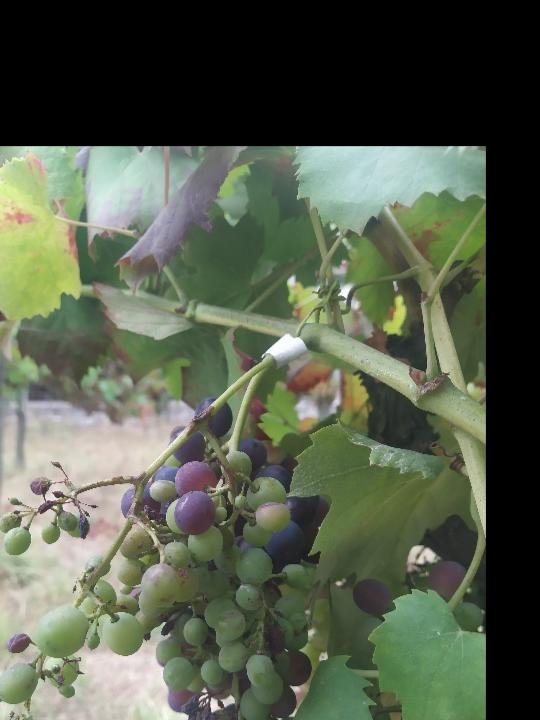grape: (0, 394, 317, 720)
